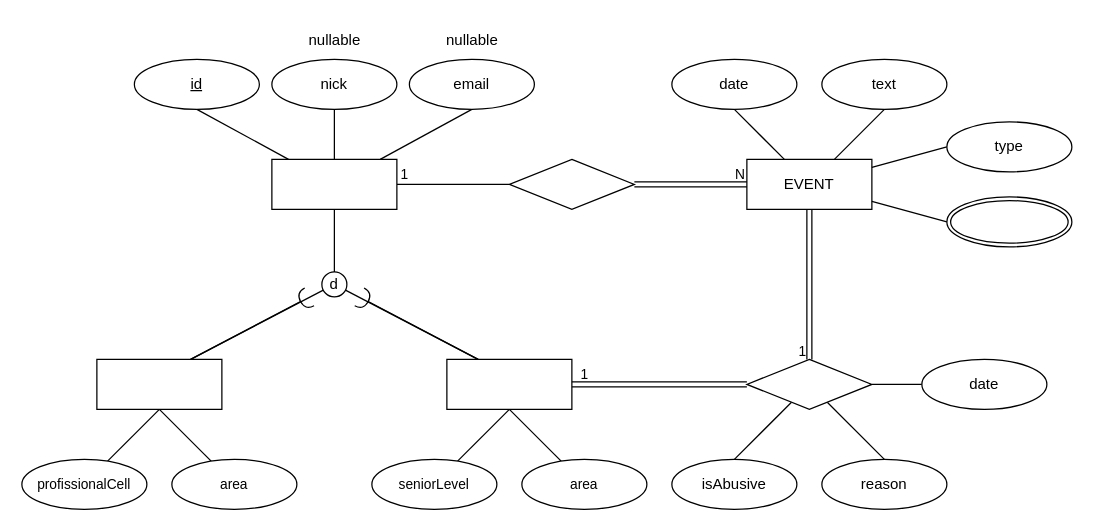
The diagram is 1094 pixels wide and 531 high, and some of its shapes have lost their labels. Here are the shapes that lost their labels. From the top down, the centre of each, then its label:
At (x=334, y=183): "USER".
At (x=571, y=183): "has".
At (x=1009, y=221): "platform".
At (x=159, y=383): "TERAPIST".
At (x=509, y=383): "MOD".
At (x=809, y=383): "ANALYSIS".
